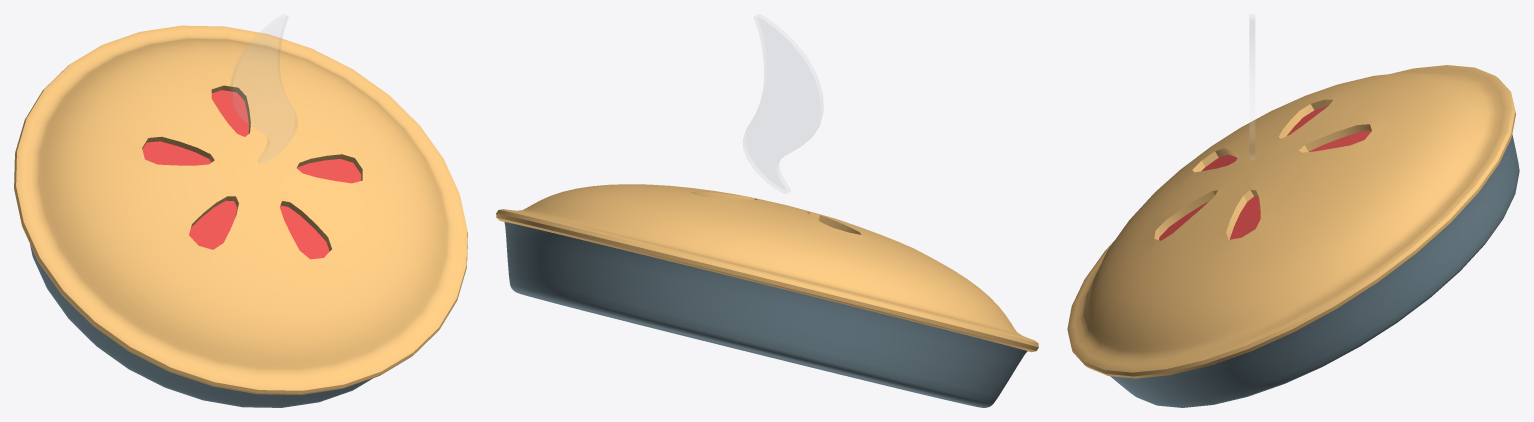
Rendered from pie.gltf.
3 views of the same model, side by side, from view 1: azimuth 30°, elevation 25°; view 2: azimuth 150°, elevation 25°; view 3: azimuth 270°, elevation 25° (orthographic). The views are drawn at different scales.
Visible parts, largest first — view 1: Sphere.497, Plane.219; view 2: Sphere.497, Plane.219; view 3: Sphere.497, Plane.219.
Part boxes in pixels (x1=…): Sphere.497: x1=14, y1=25, x2=467, y2=407; Plane.219: x1=231, y1=14, x2=296, y2=163; Sphere.497: x1=496, y1=184, x2=1038, y2=407; Plane.219: x1=743, y1=14, x2=822, y2=193; Sphere.497: x1=1067, y1=65, x2=1519, y2=407; Plane.219: x1=1250, y1=14, x2=1254, y2=159.
Size of the model in its own units: 2.34 by 1.86 by 2.08.
Materials: 2 (1 with a texture image).
